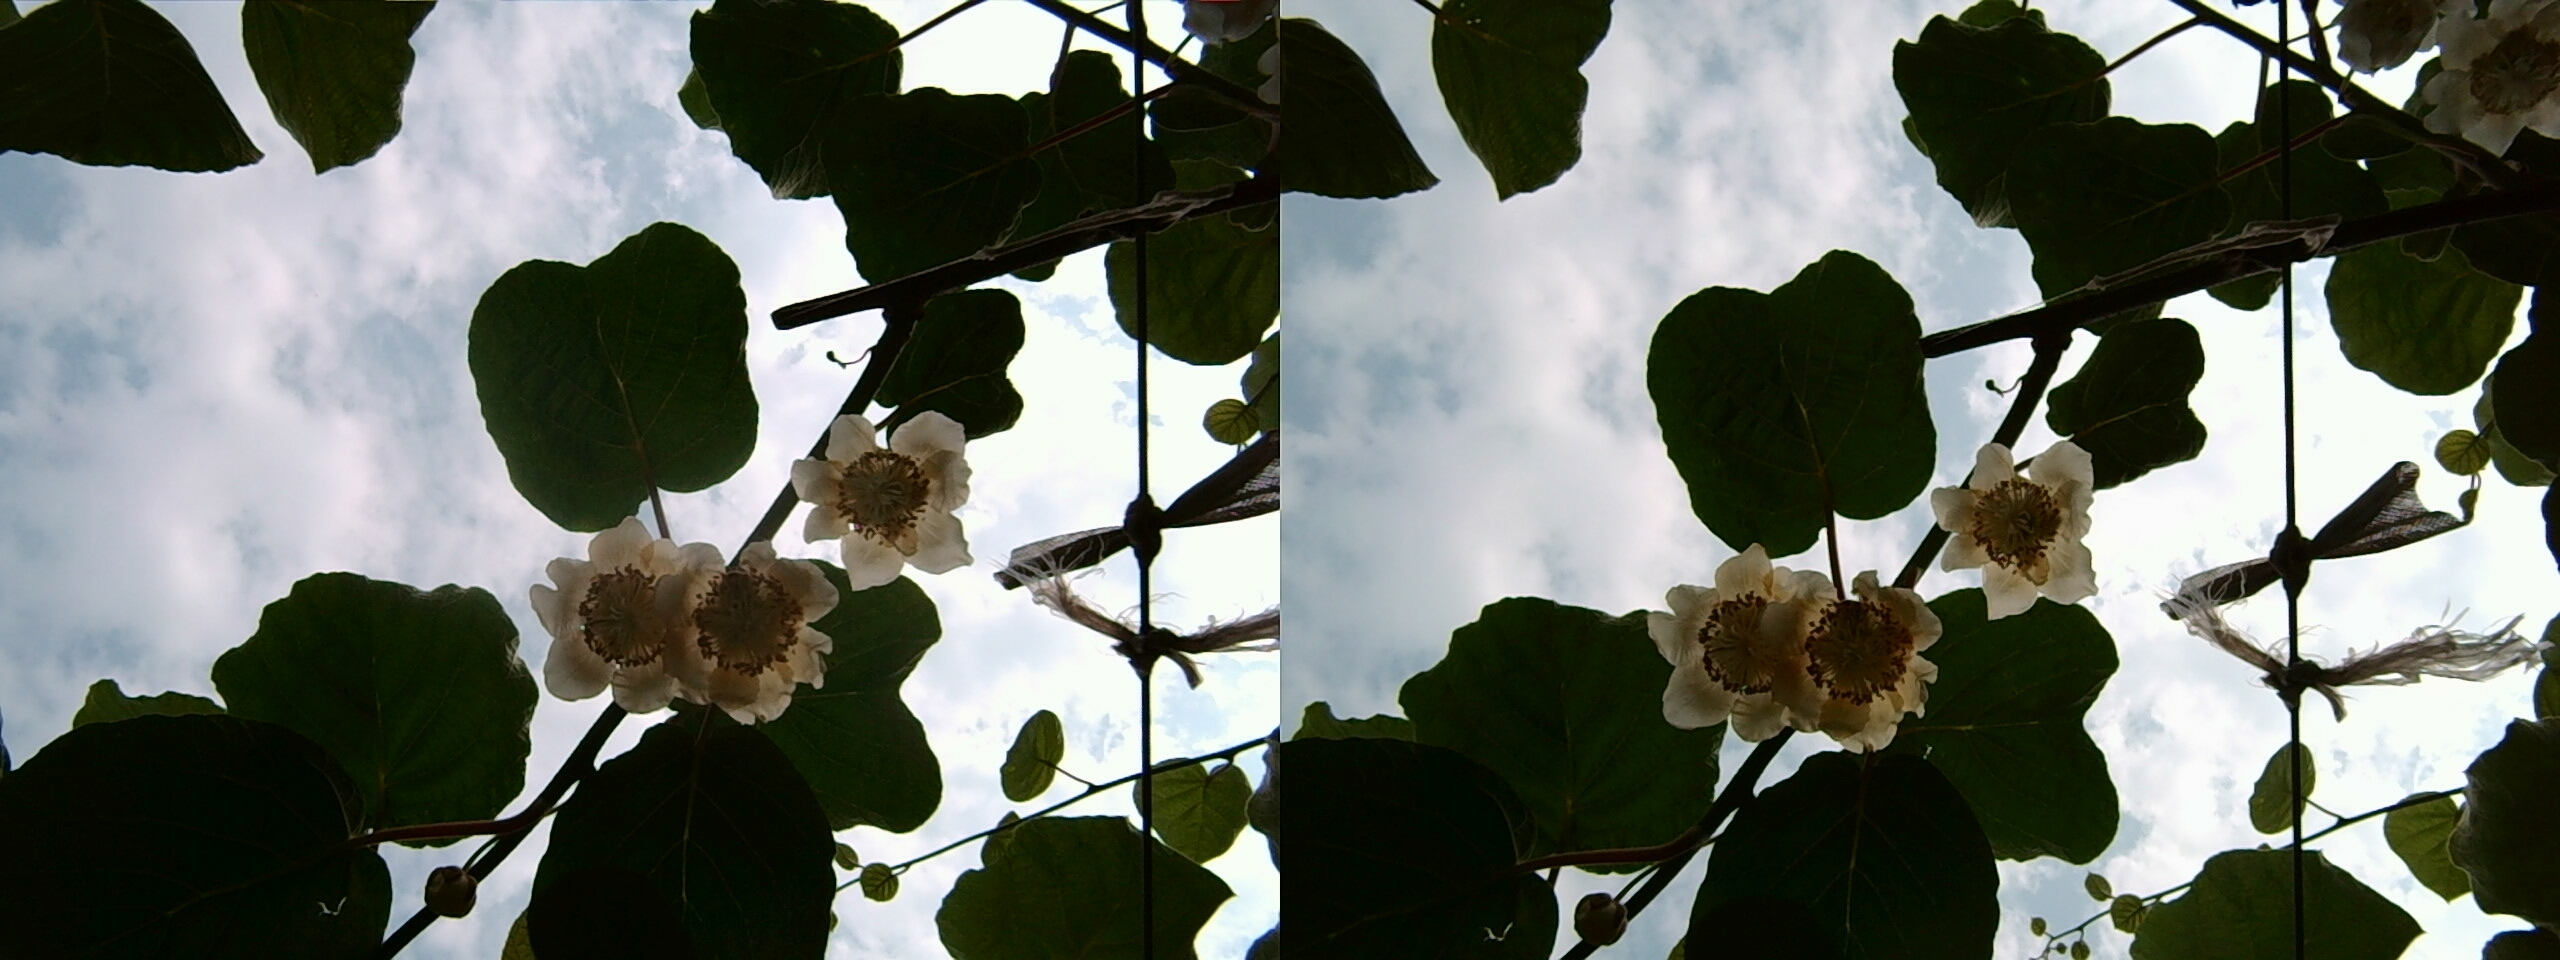flower: (570, 519, 802, 713), (1642, 536, 1829, 740), (776, 397, 984, 578), (526, 511, 717, 709), (653, 539, 851, 717), (1762, 567, 1949, 744), (1915, 429, 2106, 602)
